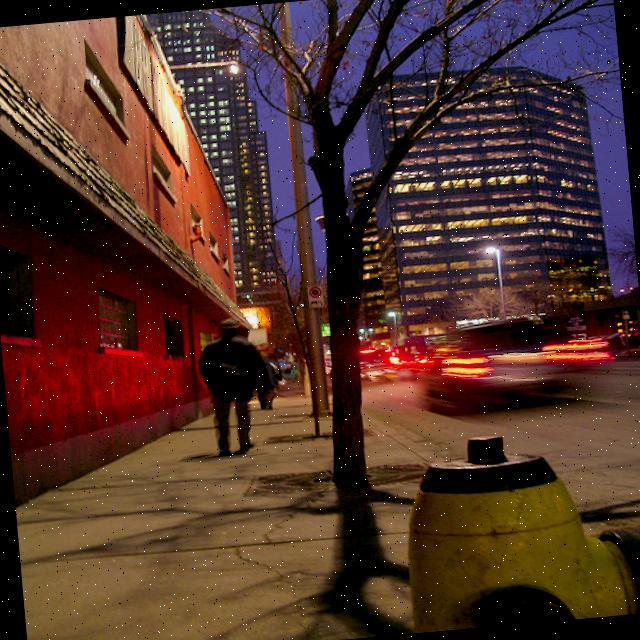fire_hydrant: (394, 418, 640, 633)
